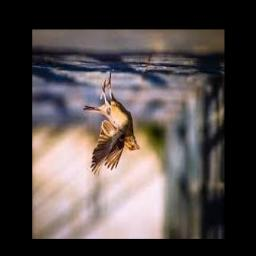Sparrow: (84, 70, 140, 177)
